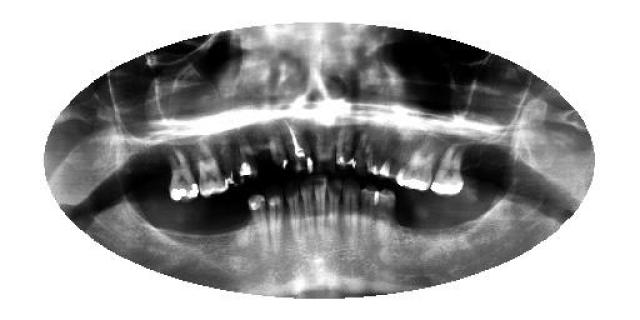Cavity: (218, 136, 244, 188), (265, 129, 287, 171)
Fillings: (395, 138, 435, 194), (430, 142, 466, 196), (169, 155, 199, 204)
